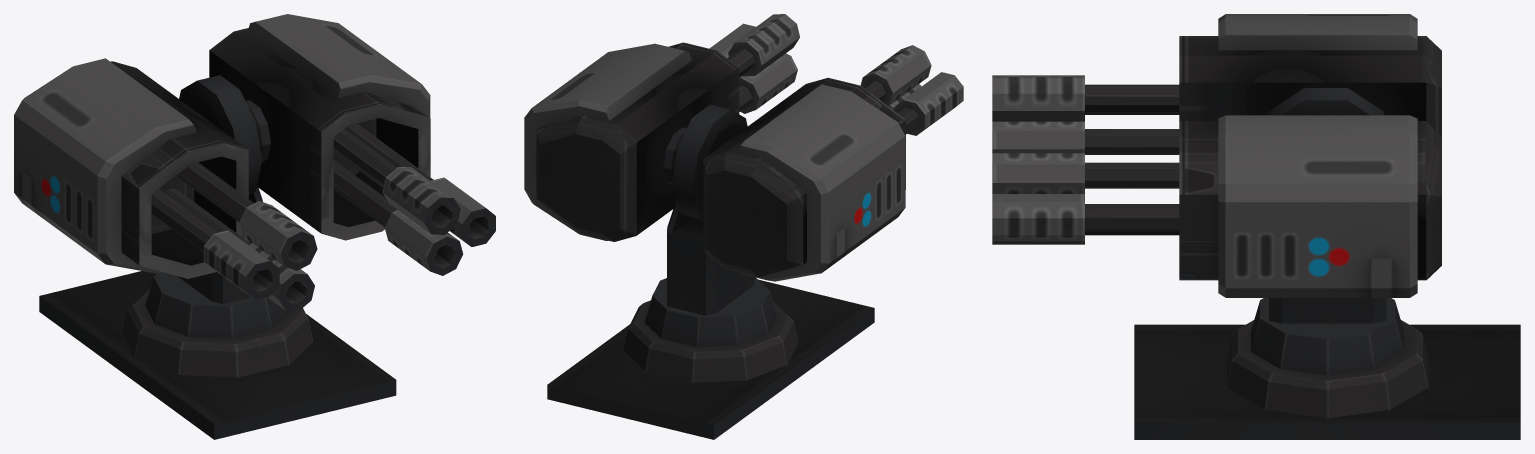
File: PDC_ARC_V3.fbx
3 views of the same model, side by side, from view 1: azimuth 30°, elevation 25°; view 2: azimuth 150°, elevation 25°; view 3: azimuth 270°, elevation 25° (orthographic). The views are drawn at different scales.
Parts seen in each view (by area): view 1: Barrel_Housing.001, PDC_Lift, PDC_Stand, tri_Barrels, tri_Barrels.001; view 2: Barrel_Housing.001, PDC_Stand, PDC_Lift, tri_Barrels.001, tri_Barrels; view 3: Barrel_Housing.001, PDC_Lift, PDC_Stand, tri_Barrels.001, tri_Barrels.
Part boxes in pixels (x1=…): Barrel_Housing.001: x1=14, y1=14, x2=430, y2=278; PDC_Lift: x1=39, y1=271, x2=396, y2=439; PDC_Stand: x1=122, y1=75, x2=313, y2=377; tri_Barrels: x1=151, y1=162, x2=317, y2=310; tri_Barrels.001: x1=333, y1=123, x2=495, y2=275; Barrel_Housing.001: x1=524, y1=42, x2=905, y2=281; PDC_Stand: x1=623, y1=104, x2=798, y2=382; PDC_Lift: x1=547, y1=279, x2=874, y2=439; tri_Barrels.001: x1=709, y1=14, x2=799, y2=113; tri_Barrels: x1=860, y1=45, x2=963, y2=135; Barrel_Housing.001: x1=1179, y1=14, x2=1441, y2=297; PDC_Lift: x1=1134, y1=324, x2=1520, y2=439; PDC_Stand: x1=1226, y1=88, x2=1428, y2=418; tri_Barrels.001: x1=992, y1=153, x2=1179, y2=244; tri_Barrels: x1=992, y1=75, x2=1179, y2=154.
Bounding box in the file's own units: 5.48 × 4.51 × 6.84.
